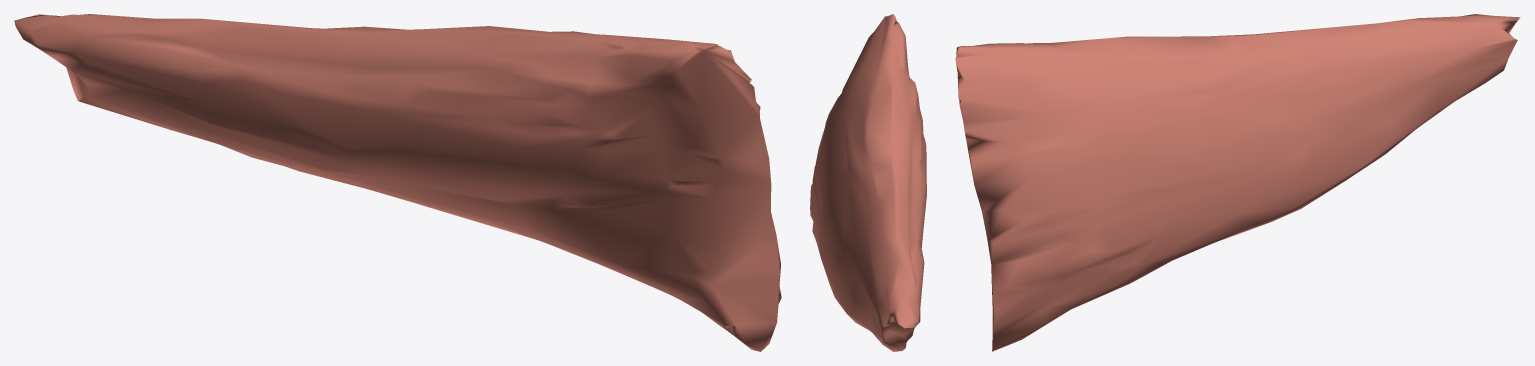
The picture shows the model from 3 angles, left to right: view 1: azimuth 30°, elevation 25°; view 2: azimuth 150°, elevation 25°; view 3: azimuth 270°, elevation 25°; orthographic projection. The views are drawn at different scales.
Parts seen in each view (by area): view 1: 左侧头后大直肌; view 2: 左侧头后大直肌; view 3: 左侧头后大直肌.
Boxes of the visible parts, <box> form: 左侧头后大直肌: <box>14,14,781,351</box>; 左侧头后大直肌: <box>810,14,926,351</box>; 左侧头后大直肌: <box>955,14,1520,351</box>.
Size of the model in its own units: 0.052 by 0.0373 by 0.0687.
